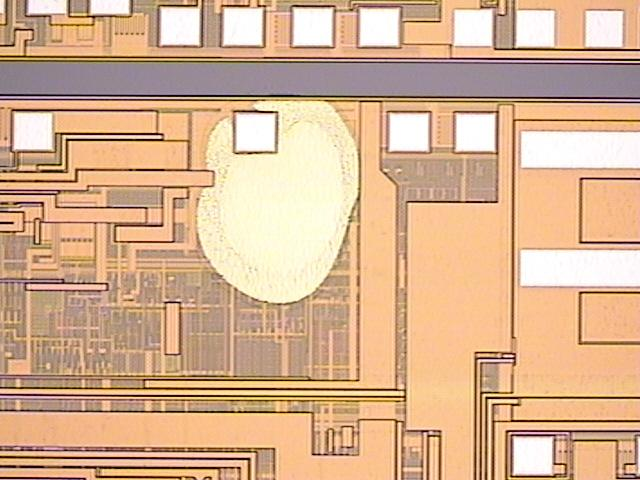BLOCK ETCH: (179, 87, 374, 315)
